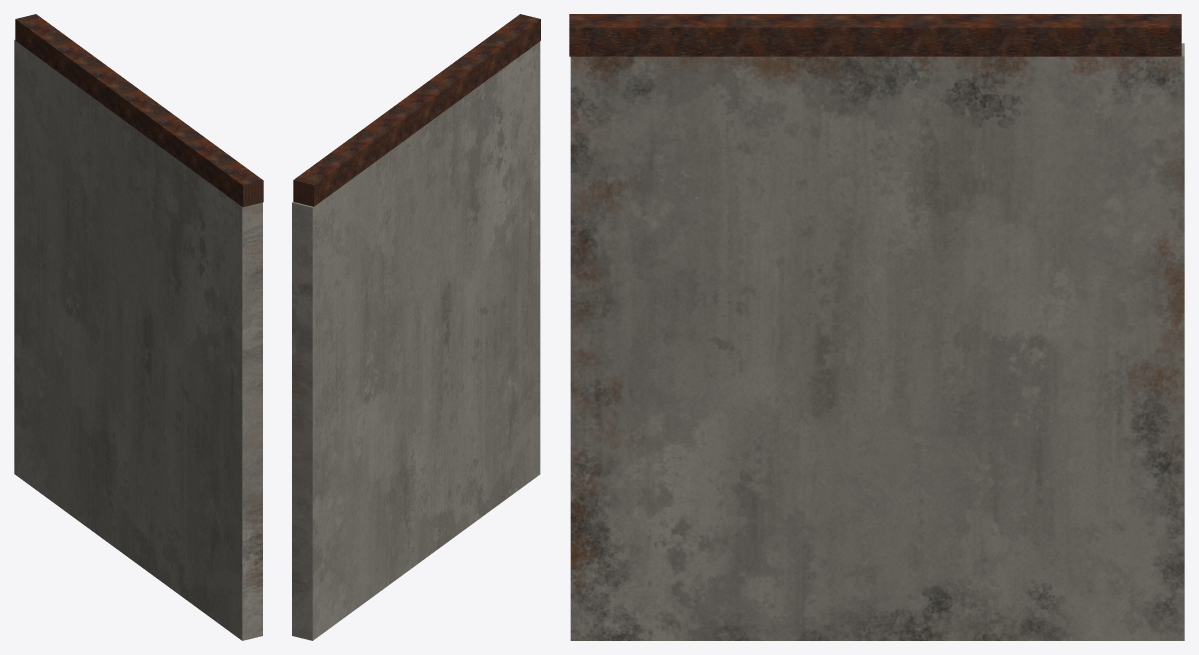
File: Wall Normal.fbx
3 views of the same model, side by side, from view 1: azimuth 30°, elevation 25°; view 2: azimuth 150°, elevation 25°; view 3: azimuth 270°, elevation 25° (orthographic). The views are drawn at different scales.
Parts seen in each view (by area): view 1: Wall Normal, Wall 1 Beam; view 2: Wall Normal, Wall 1 Beam; view 3: Wall Normal, Wall 1 Beam.
Boxes of the visible parts, <box> form: Wall Normal: <box>14,40,262,640</box>; Wall 1 Beam: <box>15,14,263,207</box>; Wall Normal: <box>292,41,540,640</box>; Wall 1 Beam: <box>293,14,540,206</box>; Wall Normal: <box>570,43,1184,640</box>; Wall 1 Beam: <box>569,14,1181,56</box>.
Bounding box in the file's own units: 0.2 × 3.82 × 4.2.
